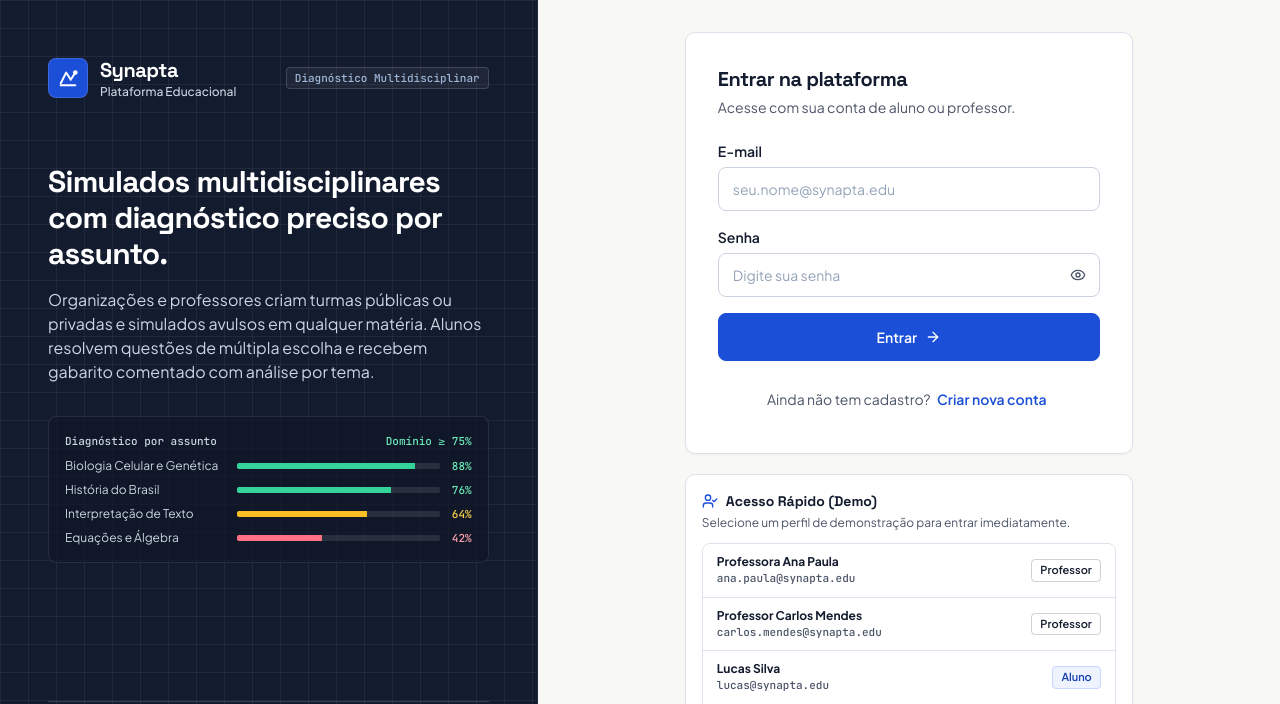
Test: AuthAndRouting › permite login via Acesso Rápido (Demo) de professor e redireciona para /teacher/dashboard
Click the button "Professora Ana Paula ana.paula@synapta.edu Professor" at (778, 562), box [703,544,1115,596]
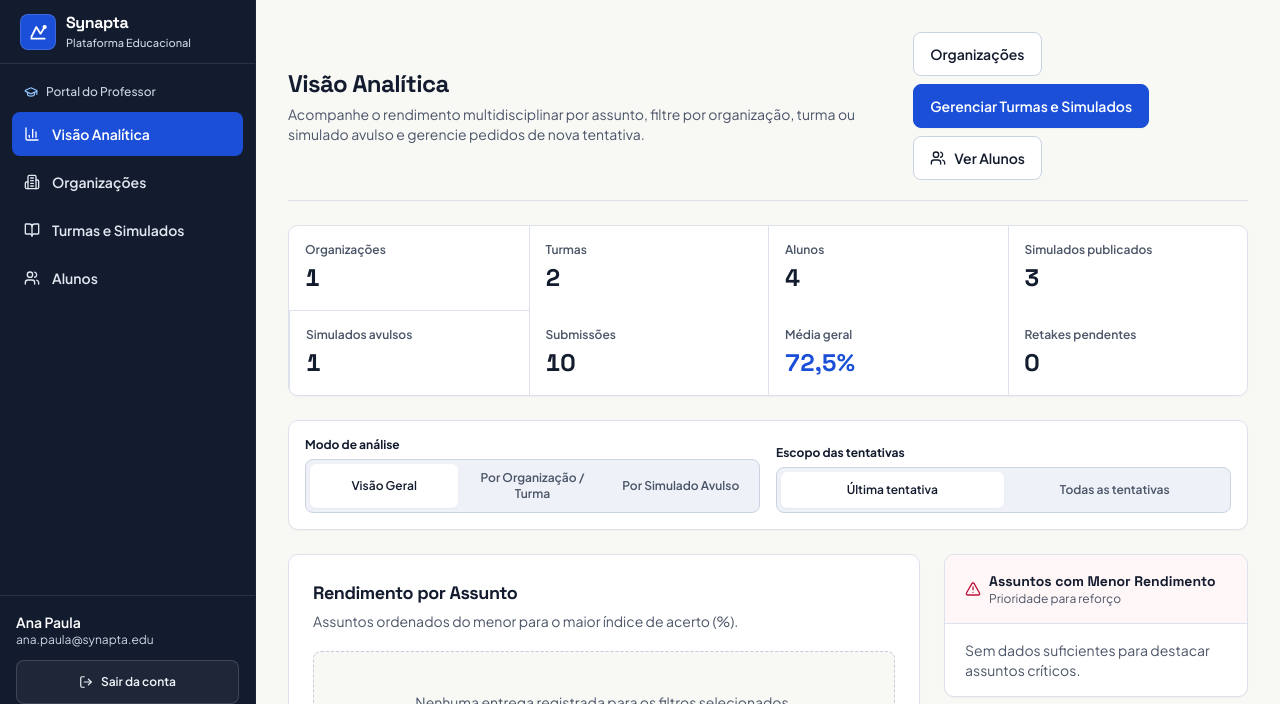
Now the heading "Visão Analítica" is shown, box [288,68,449,99]
